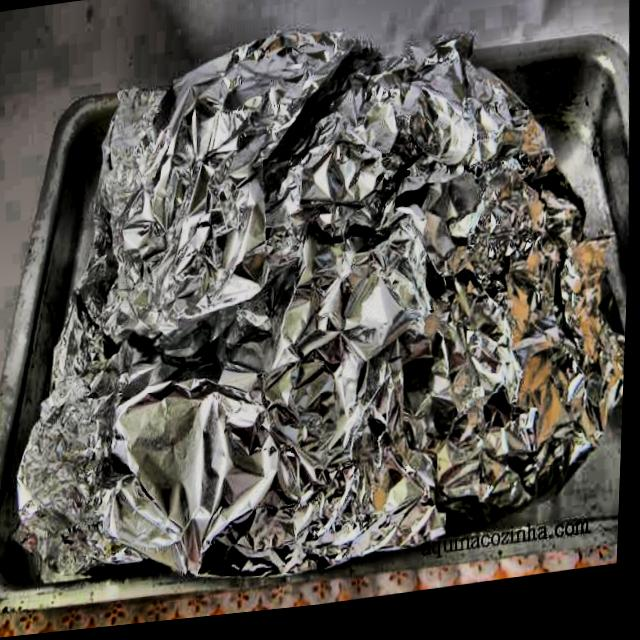Foil: (0, 0, 639, 622)
